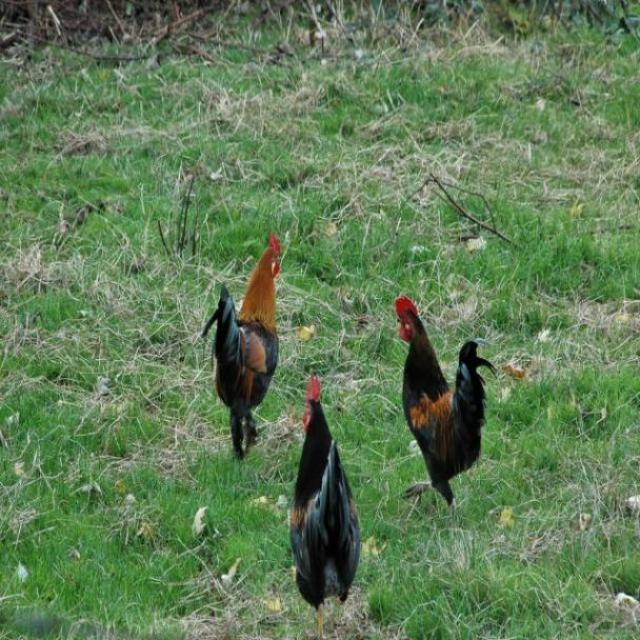Chicken: (398, 300, 494, 522), (288, 369, 361, 639), (200, 232, 279, 461)
